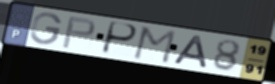8: (210, 39, 243, 73)
A: (170, 34, 210, 69)
G: (29, 12, 64, 46)
M: (131, 25, 179, 66)
P: (99, 20, 140, 56), (60, 15, 97, 50)
